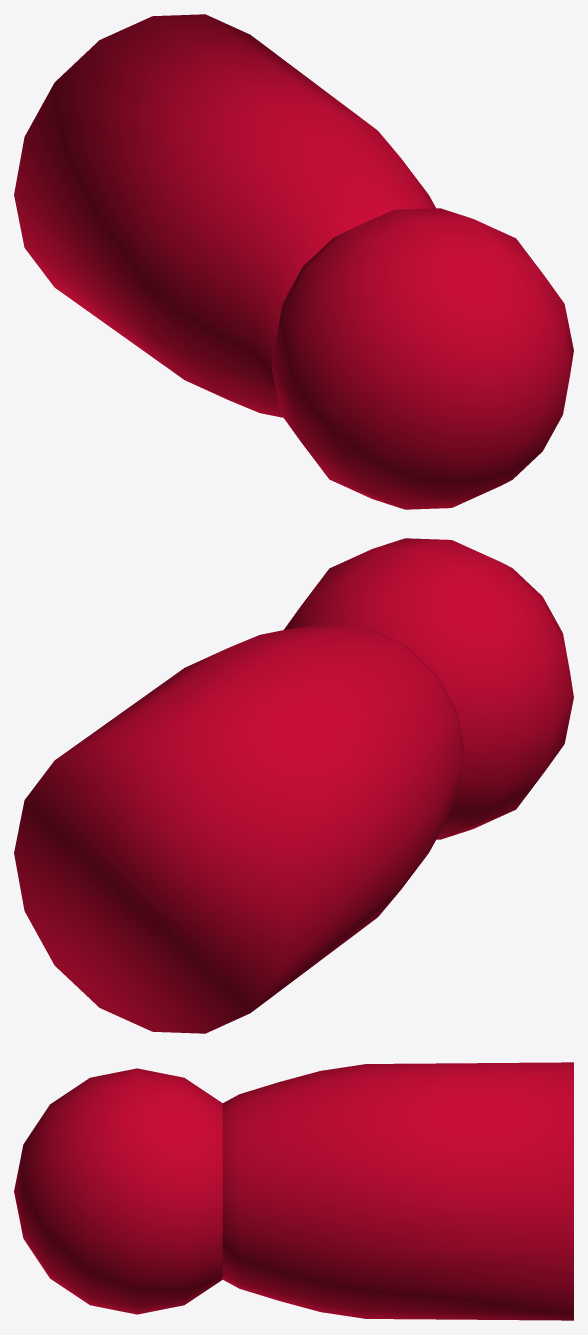
File: starting_unit_red.glb
3 views of the same model, one above another, from view 1: azimuth 30°, elevation 25°; view 2: azimuth 150°, elevation 25°; view 3: azimuth 270°, elevation 25° (orthographic). The views are drawn at different scales.
Parts seen in each view (by area): view 1: starting_unit_red; view 2: starting_unit_red; view 3: starting_unit_red.
Part boxes in pixels (x1,y1,x2,y2): starting_unit_red: [14, 14, 573, 509]; starting_unit_red: [14, 538, 573, 1033]; starting_unit_red: [14, 1062, 573, 1320].
Bounding box in the file's own units: 1 × 1 × 2.17.
